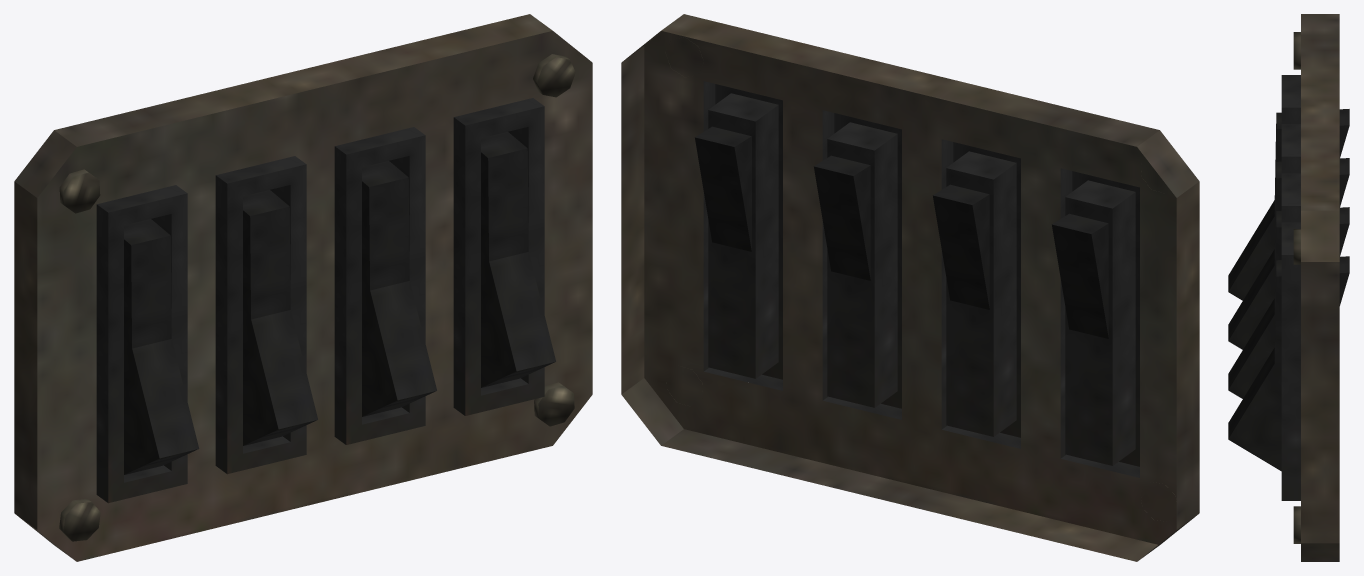
Rendered from buttons_etx_black_3.obj.
3 views of the same model, side by side, from view 1: azimuth 30°, elevation 25°; view 2: azimuth 150°, elevation 25°; view 3: azimuth 270°, elevation 25° (orthographic). The views are drawn at different scales.
Parts seen in each view (by area): view 1: buttons_etx_black_3, buttons_etx_black_3_child_1, buttons_etx_black_3_child_2, buttons_etx_black_3_child_3, buttons_etx_black_3_child_4; view 2: buttons_etx_black_3, buttons_etx_black_3_child_2, buttons_etx_black_3_child_1, buttons_etx_black_3_child_3, buttons_etx_black_3_child_4; view 3: buttons_etx_black_3, buttons_etx_black_3_child_4, buttons_etx_black_3_child_1, buttons_etx_black_3_child_2, buttons_etx_black_3_child_3.
Part boxes in pixels (box(x1,y1,x2,y2)): buttons_etx_black_3: box(14, 14, 592, 561); buttons_etx_black_3_child_1: box(124, 219, 199, 474); buttons_etx_black_3_child_2: box(243, 190, 317, 445); buttons_etx_black_3_child_3: box(362, 161, 436, 416); buttons_etx_black_3_child_4: box(481, 132, 555, 387); buttons_etx_black_3: box(621, 14, 1199, 561); buttons_etx_black_3_child_2: box(932, 184, 989, 309); buttons_etx_black_3_child_1: box(1051, 213, 1108, 338); buttons_etx_black_3_child_3: box(814, 155, 870, 280); buttons_etx_black_3_child_4: box(695, 126, 751, 251); buttons_etx_black_3: box(1281, 14, 1339, 561); buttons_etx_black_3_child_4: box(1228, 256, 1349, 471); buttons_etx_black_3_child_1: box(1228, 109, 1349, 300); buttons_etx_black_3_child_2: box(1228, 158, 1349, 349); buttons_etx_black_3_child_3: box(1228, 207, 1349, 398).
Bounding box in the file's own units: 0.252 × 0.18 × 0.0565.
